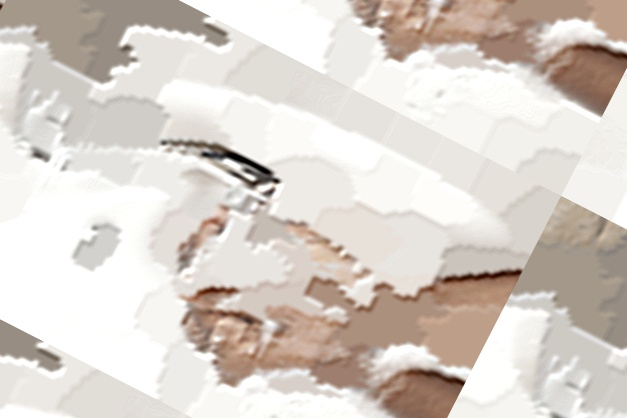washing hand: (0, 0, 514, 417)
